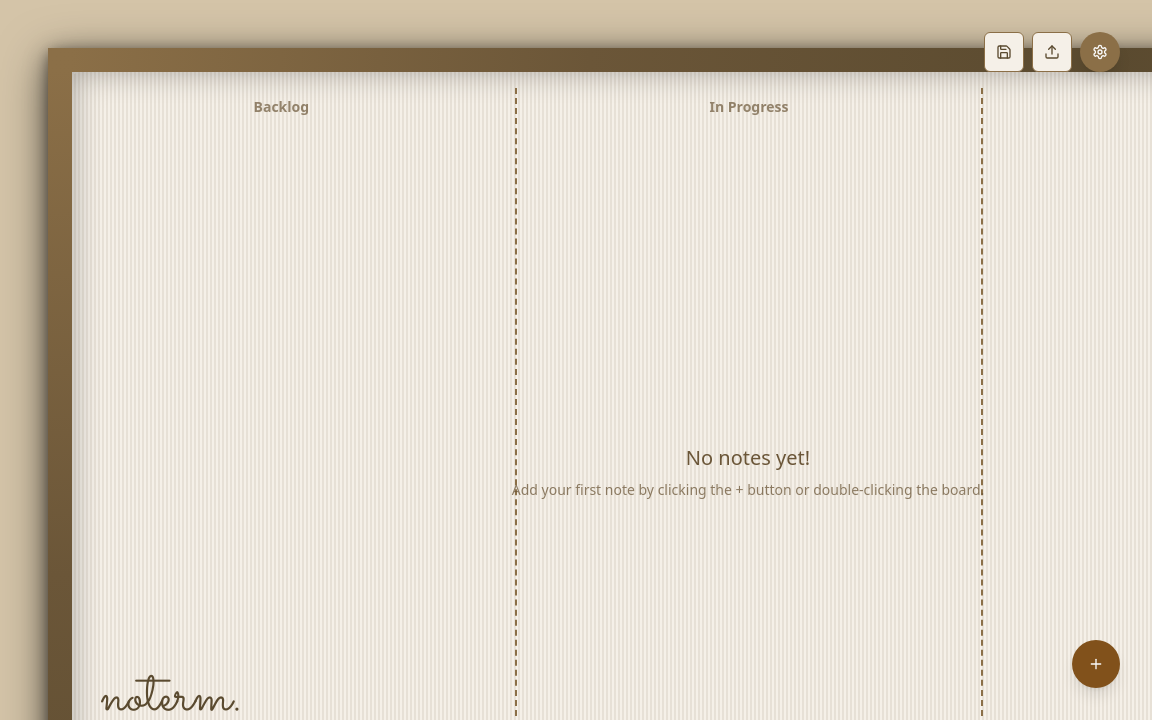
Scenario: Index page › Swimlanes › should enable editing swimlane label on double-click
The width and height of the screenshot is (1152, 720).
Double-click the text "Backlog" at (281, 106), box [254,97,309,116]
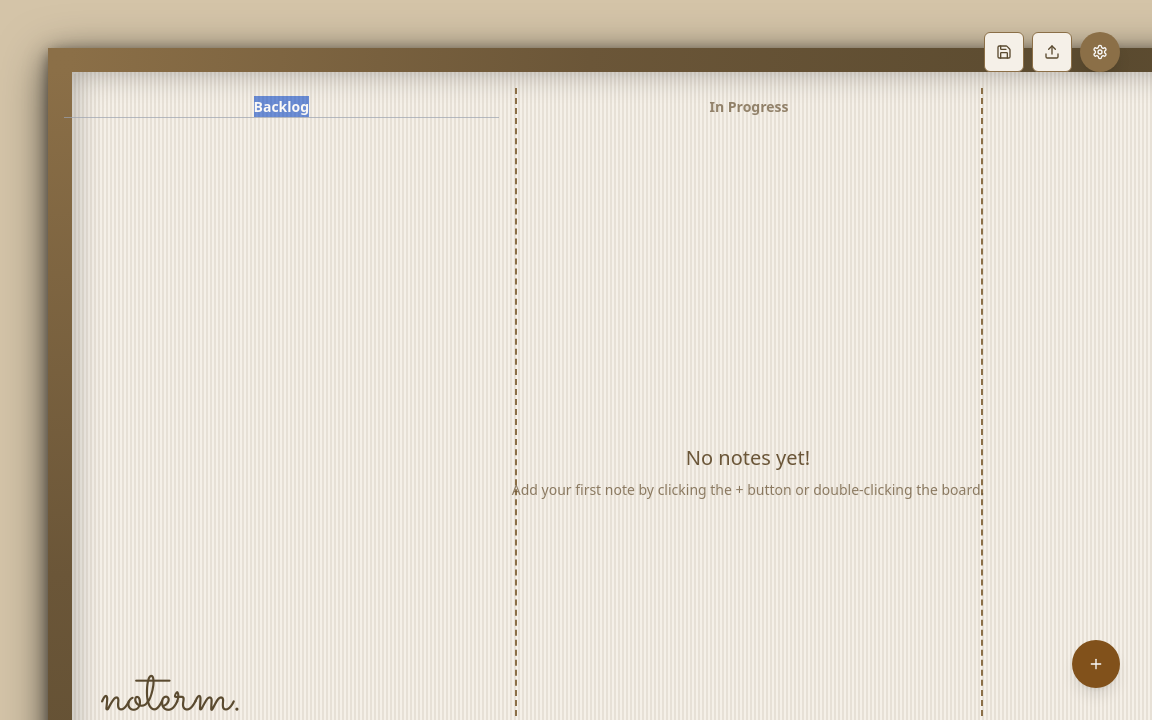
Expected: the field showing "Backlog" is shown, [64,96,499,118]
